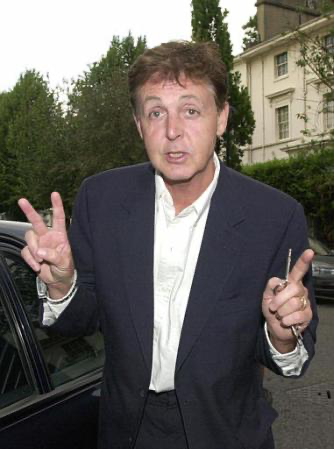Face: (135, 81, 222, 184)
